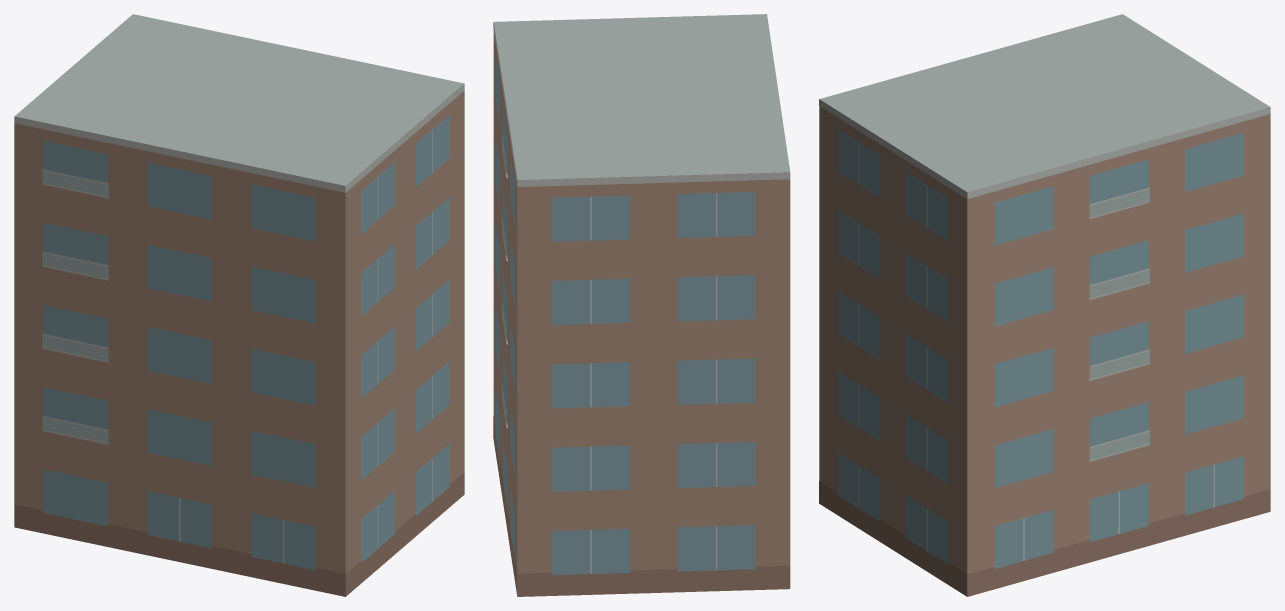
The model's file is survey-upis-33041030.glb.
The picture shows the model from 3 angles, left to right: view 1: azimuth 30°, elevation 25°; view 2: azimuth 150°, elevation 25°; view 3: azimuth 270°, elevation 25°; orthographic projection. The views are drawn at different scales.
Visible parts, largest first — view 1: survey-upis-33041030.tmp; view 2: survey-upis-33041030.tmp; view 3: survey-upis-33041030.tmp.
Boxes of the visible parts, box(x1,y1,x2,y2) form: survey-upis-33041030.tmp: box(14, 14, 464, 596); survey-upis-33041030.tmp: box(493, 14, 790, 596); survey-upis-33041030.tmp: box(819, 14, 1270, 596).
Size of the model in its own units: 13.82 by 14.6 by 14.78.
